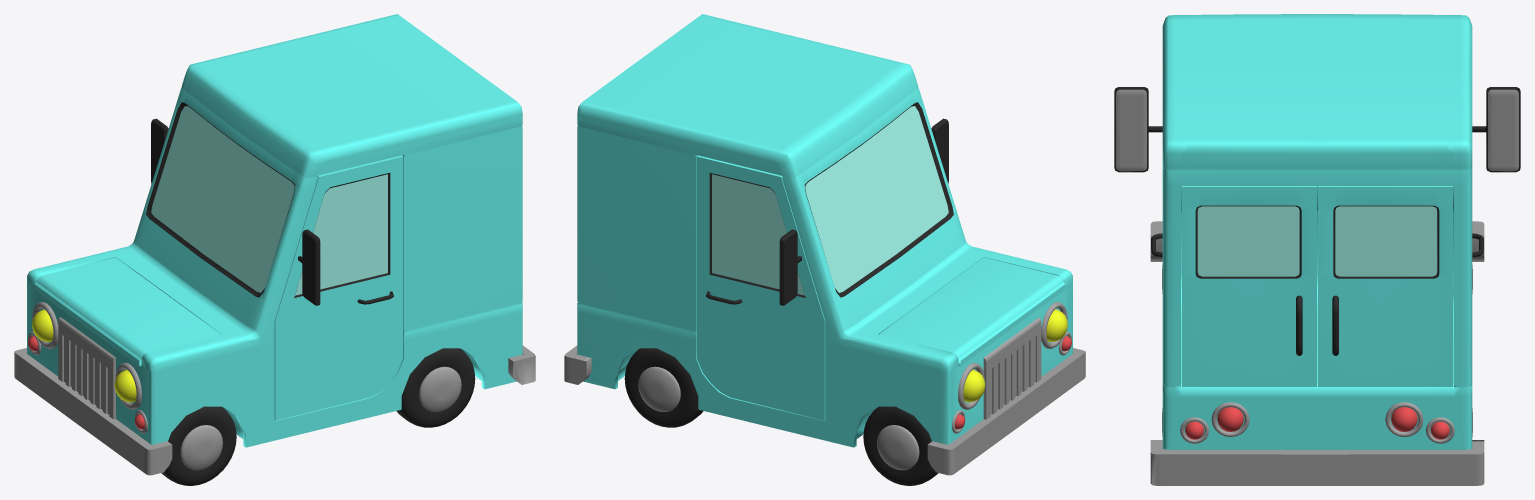
Rendered from Truck2.fbx.
3 views of the same model, side by side, from view 1: azimuth 30°, elevation 25°; view 2: azimuth 150°, elevation 25°; view 3: azimuth 270°, elevation 25° (orthographic). The views are drawn at different scales.
Parts seen in each view (by area): view 1: Truck2, RearLeftWheel, FrontLeftWheel; view 2: Truck2, RearRightWheel, FrontRightWheel; view 3: Truck2.
Boxes of the visible parts, x1,y1,x2,y2 form: Truck2: (14,14,535,475); RearLeftWheel: (396,348,475,427); FrontLeftWheel: (161,406,236,485); Truck2: (564,14,1085,475); RearRightWheel: (624,348,703,427); FrontRightWheel: (863,406,938,485); Truck2: (1114,14,1520,485).
Size of the model in its own units: 278 by 207 by 201.
